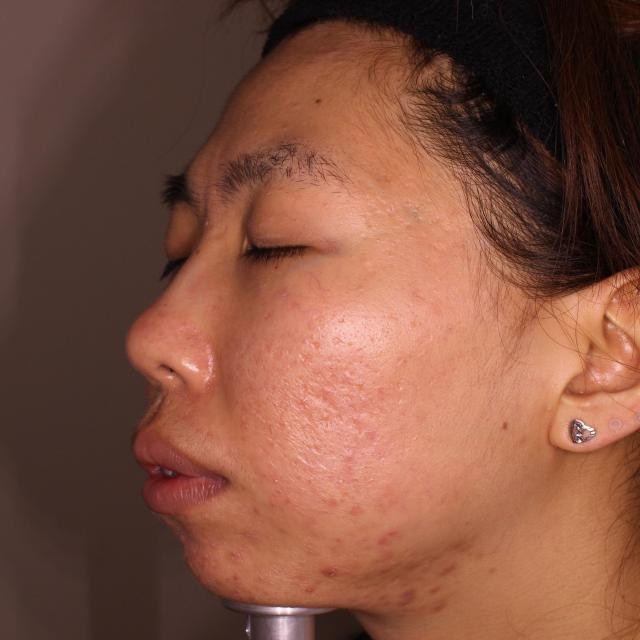pustule: (440, 530, 486, 556), (423, 584, 451, 626), (391, 581, 418, 614), (431, 553, 468, 577), (291, 570, 317, 601), (317, 562, 349, 584), (372, 523, 404, 545), (221, 537, 242, 570)
